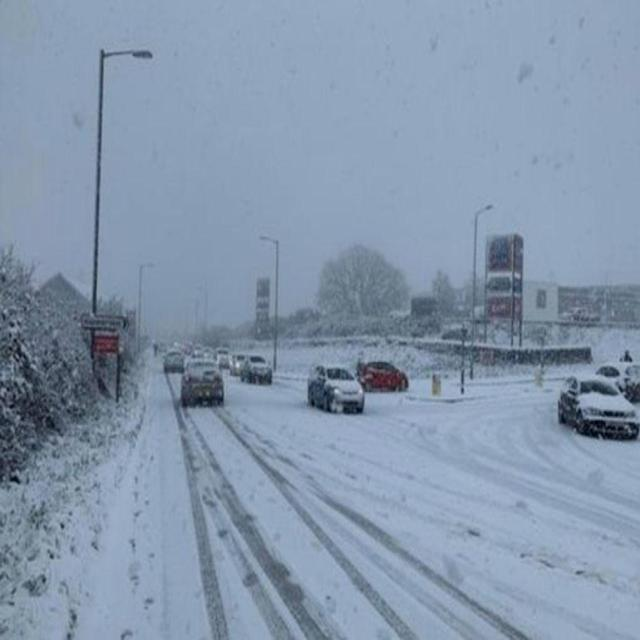Car: (557, 368, 640, 442), (307, 364, 366, 416), (180, 359, 223, 407), (356, 360, 412, 395), (594, 361, 640, 403), (242, 353, 275, 386), (163, 349, 185, 372), (230, 352, 247, 376), (213, 346, 231, 368), (190, 343, 204, 358), (202, 348, 212, 360)
